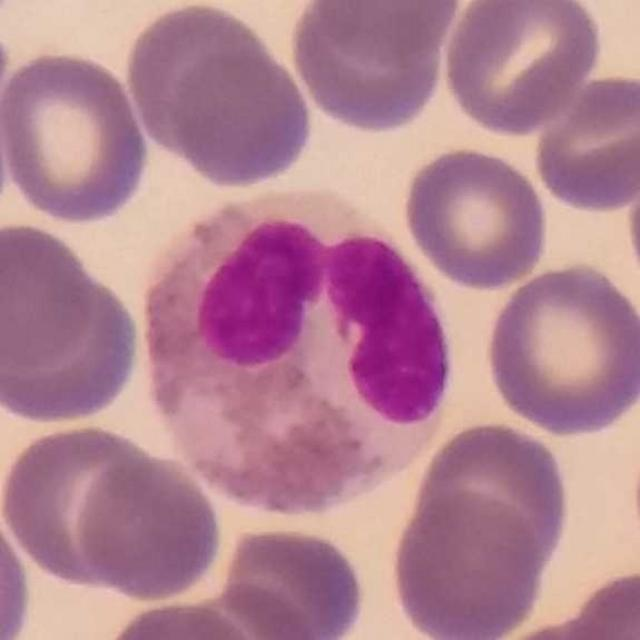eosino: (143, 187, 452, 520)
